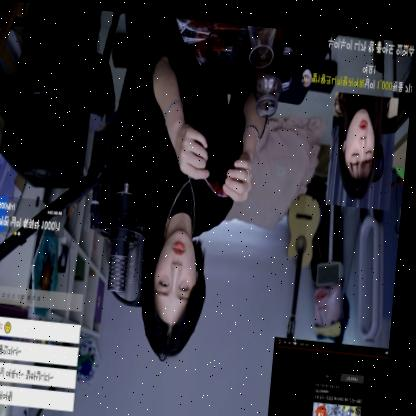donation: (292, 25, 416, 203)
streamer: (104, 49, 275, 365)
